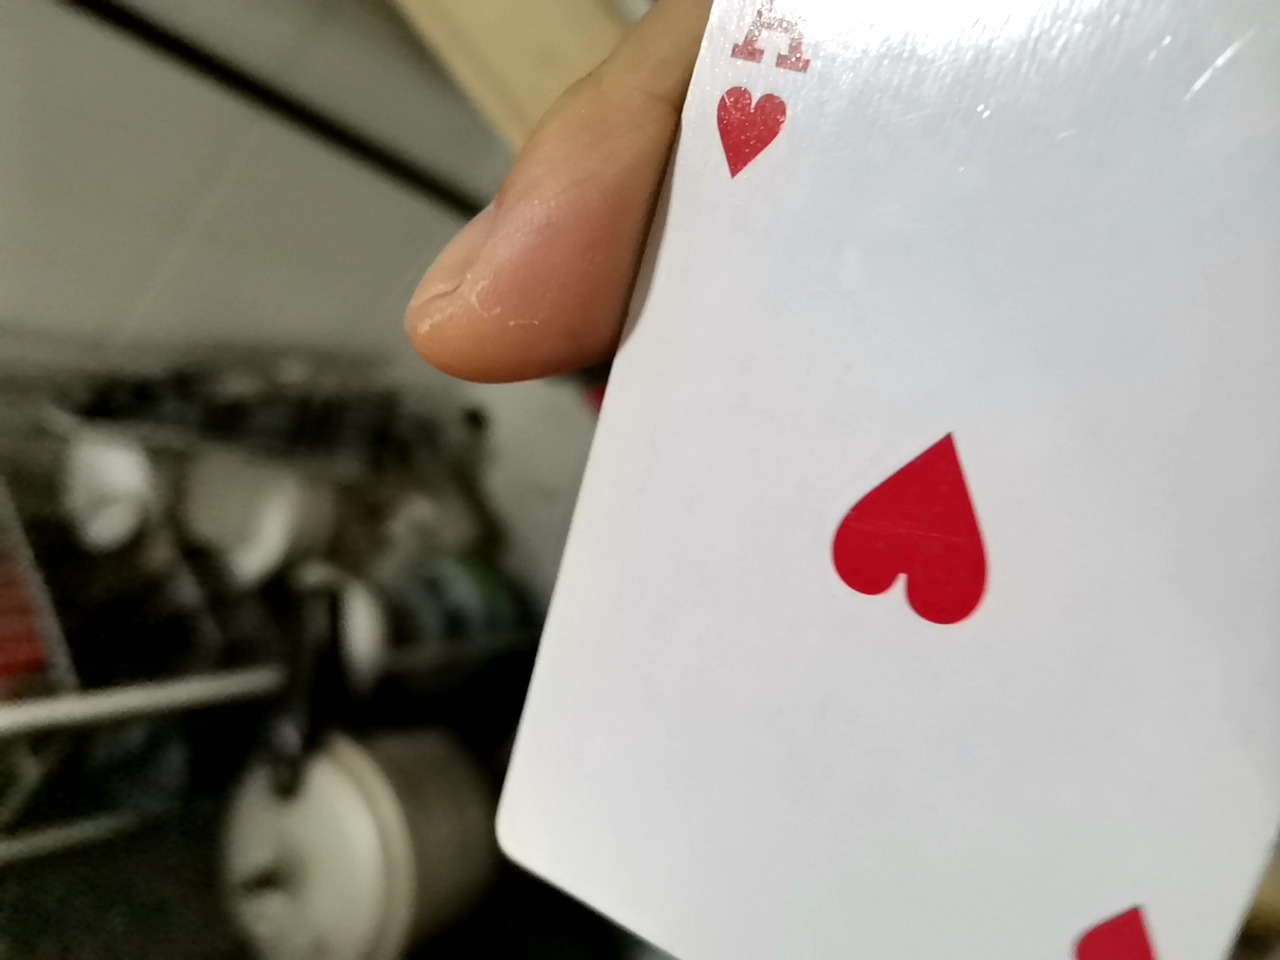hx a: (386, 15, 1266, 960)
